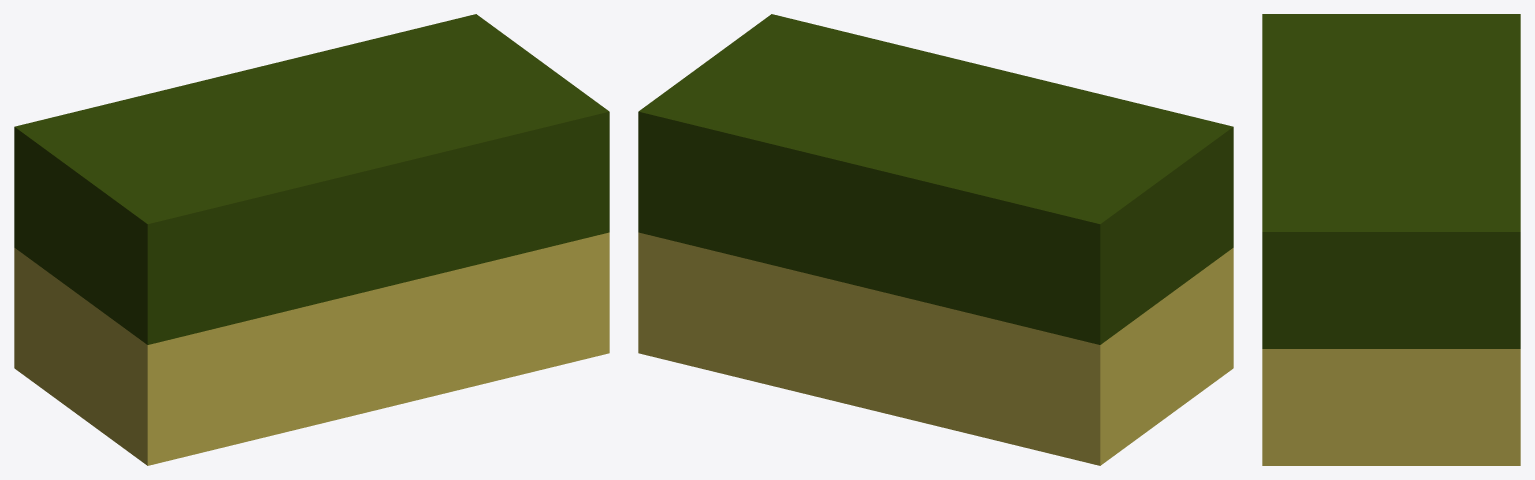
Rendered from Sponge.gltf.
3 views of the same model, side by side, from view 1: azimuth 30°, elevation 25°; view 2: azimuth 150°, elevation 25°; view 3: azimuth 270°, elevation 25° (orthographic). The views are drawn at different scales.
Parts seen in each view (by area): view 1: Layer.1; view 2: Layer.1; view 3: Layer.1.
Part boxes in pixels (bbox=[...]): Layer.1: bbox=[14, 14, 609, 465]; Layer.1: bbox=[638, 14, 1233, 465]; Layer.1: bbox=[1262, 14, 1520, 465].
Bounding box in the file's own units: 4 × 2 × 2.
